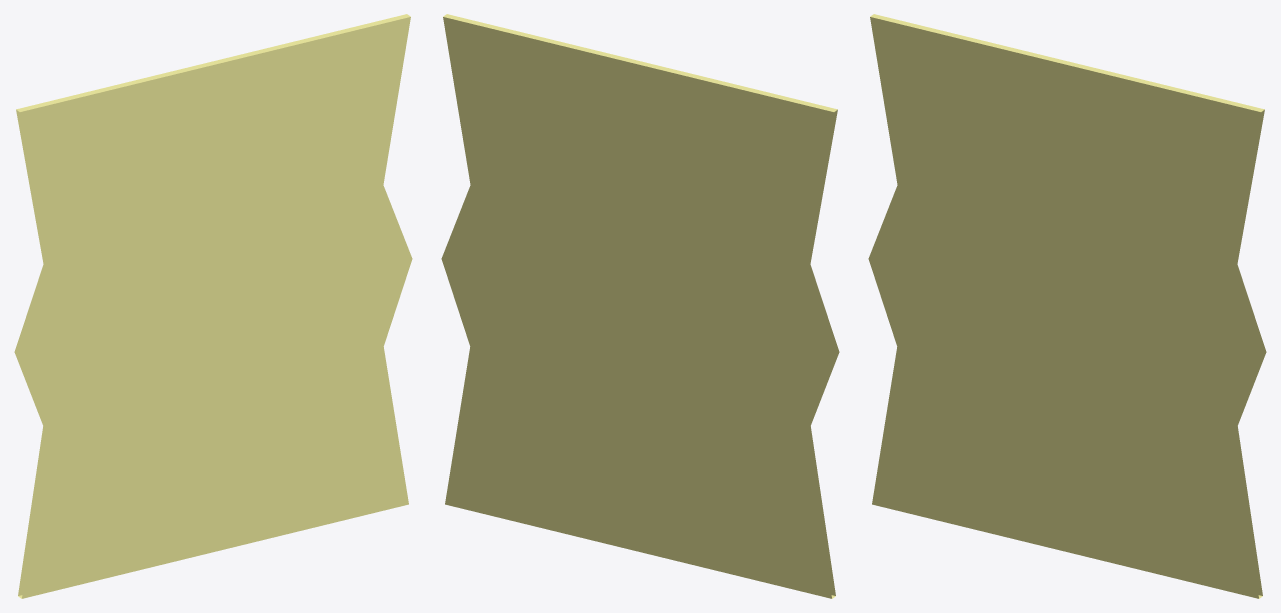
File: mirror.fbx
The picture shows the model from 3 angles, left to right: view 1: azimuth 30°, elevation 25°; view 2: azimuth 150°, elevation 25°; view 3: azimuth 330°, elevation 25°; orthographic projection.
Visible parts, largest first — view 1: Cube.029; view 2: Cube.029; view 3: Cube.029.
Part boxes in pixels (x1,y1,x2,y2): Cube.029: (14, 14, 412, 598); Cube.029: (441, 14, 839, 598); Cube.029: (868, 14, 1266, 598).
Size of the model in its own units: 76.6 by 90.48 by 1.3.
